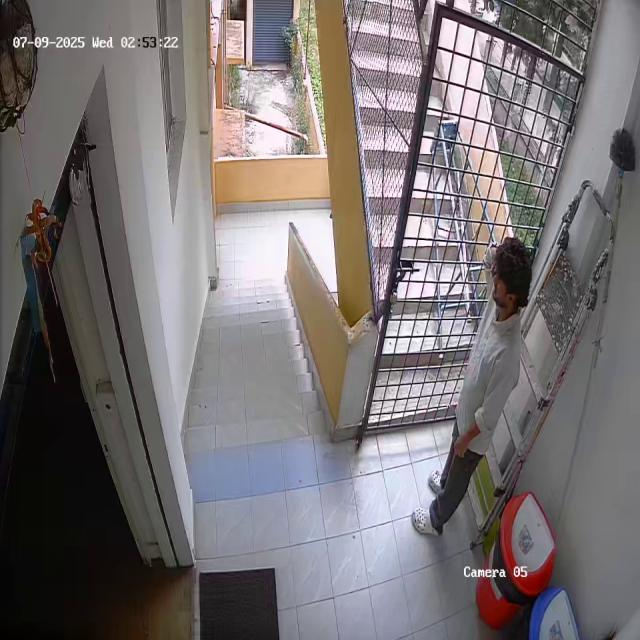person: (411, 232, 529, 542)
